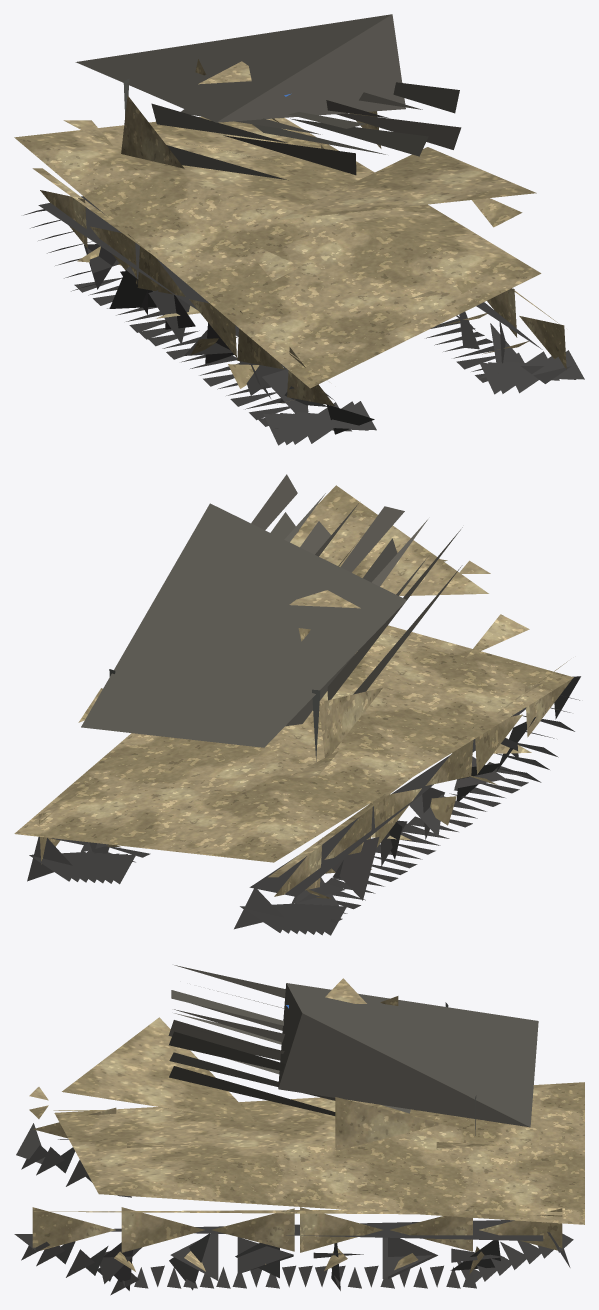
File: art_e4_us_mlrs_LOD2.glb
3 views of the same model, one above another, from view 1: azimuth 30°, elevation 25°; view 2: azimuth 150°, elevation 25°; view 3: azimuth 270°, elevation 25° (orthographic). The views are drawn at different scales.
Visible parts, largest first — view 1: art_e4_us_mlrs_LOD2_body, art_e4_us_mlrs_LOD2_deck, art_e4_us_mlrs_LOD2_track; view 2: art_e4_us_mlrs_LOD2_body, art_e4_us_mlrs_LOD2_deck, art_e4_us_mlrs_LOD2_track; view 3: art_e4_us_mlrs_LOD2_body, art_e4_us_mlrs_LOD2_deck, art_e4_us_mlrs_LOD2_track.
Boxes of the visible parts, x1,y1,x2,y2 form: art_e4_us_mlrs_LOD2_body: (14,59,566,405); art_e4_us_mlrs_LOD2_deck: (75,14,461,179); art_e4_us_mlrs_LOD2_track: (23,196,584,445); art_e4_us_mlrs_LOD2_body: (14,485,573,898); art_e4_us_mlrs_LOD2_deck: (81,474,462,747); art_e4_us_mlrs_LOD2_track: (27,676,580,935); art_e4_us_mlrs_LOD2_body: (29,978,584,1274); art_e4_us_mlrs_LOD2_deck: (168,965,538,1133); art_e4_us_mlrs_LOD2_track: (14,1123,573,1295).
Bounding box in the file's own units: 3.18 × 3.55 × 6.85.
Materials: 5 (1 with a texture image).
